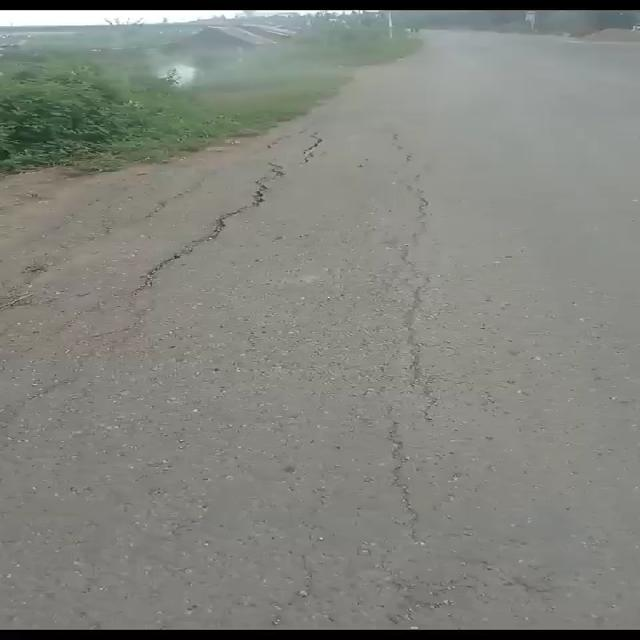Pinggir: (0, 65, 363, 366)
